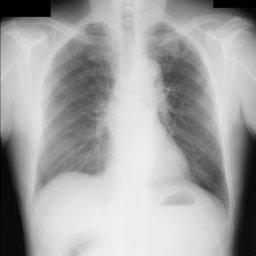left lobe: (148, 23, 227, 206)
right lobe: (38, 24, 114, 188)
